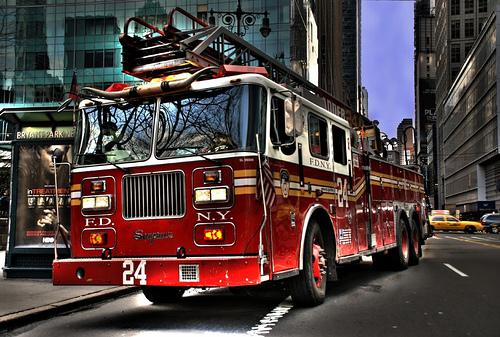truck: (52, 5, 440, 309)
